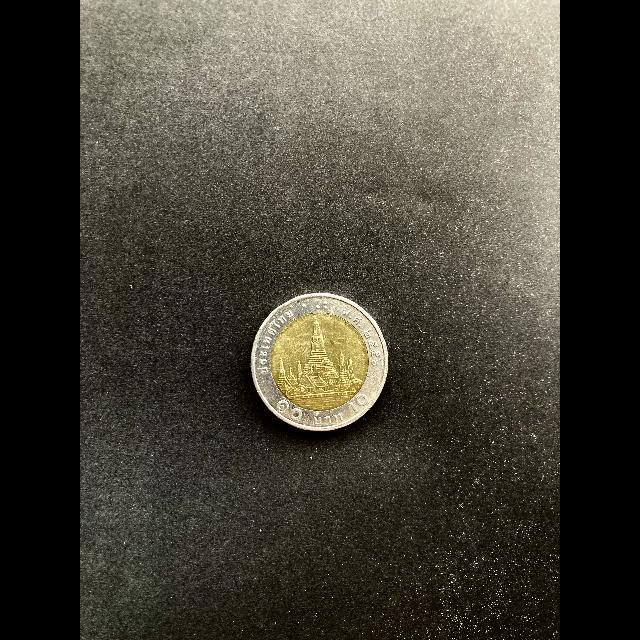10 Bath: (250, 290, 392, 437)
